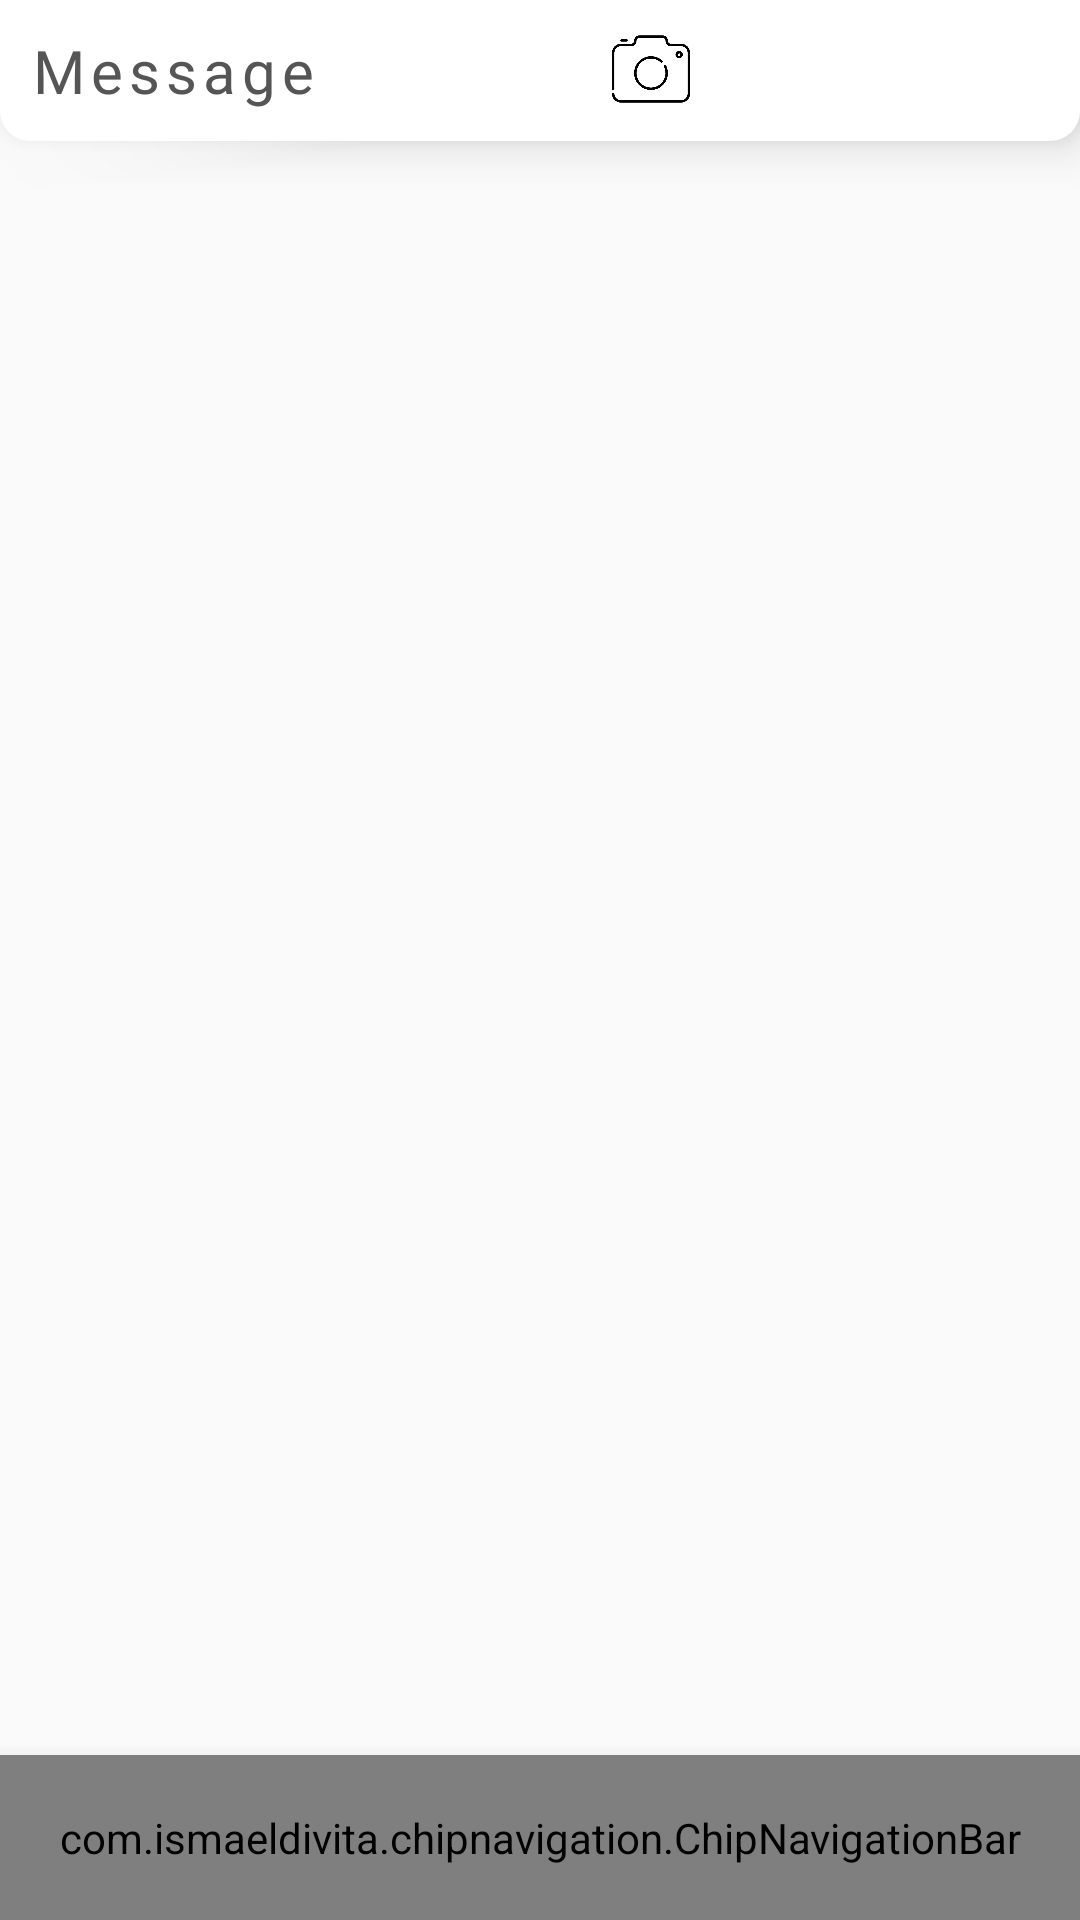

Icons on this 1080px×1920px Android screen, each with the point to tap as [x,y]:
camera: [651,69]
